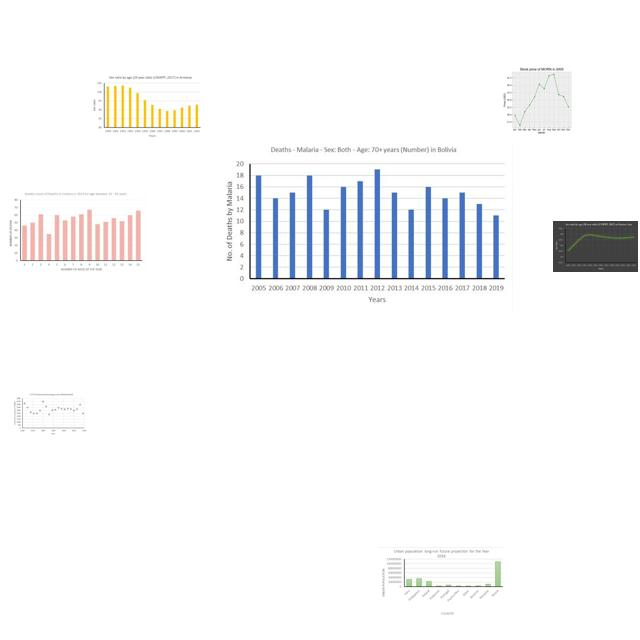Graph: (217, 142, 513, 313), (6, 190, 146, 275), (378, 547, 505, 618), (90, 74, 202, 140), (492, 63, 589, 136), (553, 221, 638, 272), (13, 393, 87, 436)
